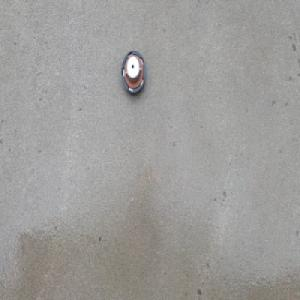FuelCap: (120, 49, 146, 95)
